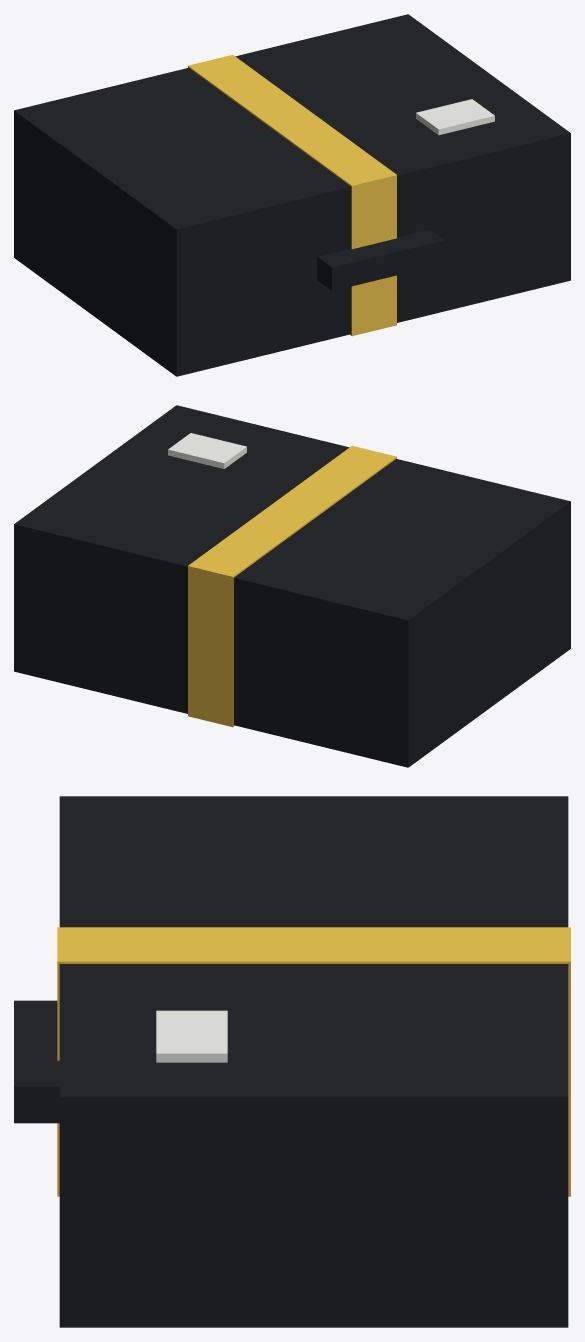
File: suitcase.glb
The picture shows the model from 3 angles, top to bottom: view 1: azimuth 30°, elevation 25°; view 2: azimuth 150°, elevation 25°; view 3: azimuth 270°, elevation 25°; orthographic projection. The views are drawn at different scales.
Visible parts, largest first — view 1: body_suitcase_black, ribbon_ribbon_yellow, handle_suitcase_black, tag_tag_white; view 2: body_suitcase_black, ribbon_ribbon_yellow, tag_tag_white; view 3: body_suitcase_black, ribbon_ribbon_yellow, handle_suitcase_black, tag_tag_white.
Part boxes in pixels (x1=…): body_suitcase_black: x1=14, y1=14, x2=570, y2=376; ribbon_ribbon_yellow: x1=188, y1=54, x2=396, y2=336; handle_suitcase_black: x1=317, y1=229, x2=444, y2=291; tag_tag_white: x1=416, y1=99, x2=494, y2=135; body_suitcase_black: x1=14, y1=405, x2=570, y2=767; ribbon_ribbon_yellow: x1=188, y1=445, x2=396, y2=727; tag_tag_white: x1=168, y1=433, x2=246, y2=468; body_suitcase_black: x1=59, y1=796, x2=568, y2=1327; ribbon_ribbon_yellow: x1=57, y1=927, x2=570, y2=1196; handle_suitcase_black: x1=14, y1=1000, x2=59, y2=1123; tag_tag_white: x1=156, y1=1010, x2=227, y2=1062.
Size of the model in its own units: 0.7 by 0.2625 by 0.5475.
